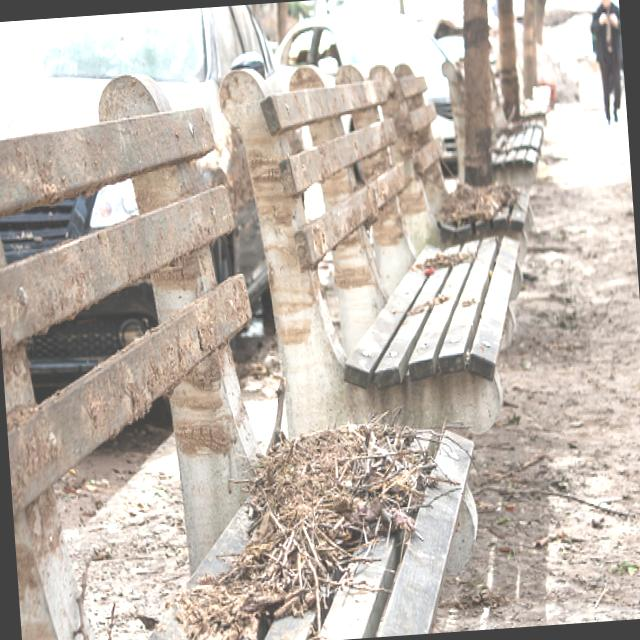Vehicle: (0, 3, 294, 406), (273, 0, 509, 174), (416, 12, 465, 62)
